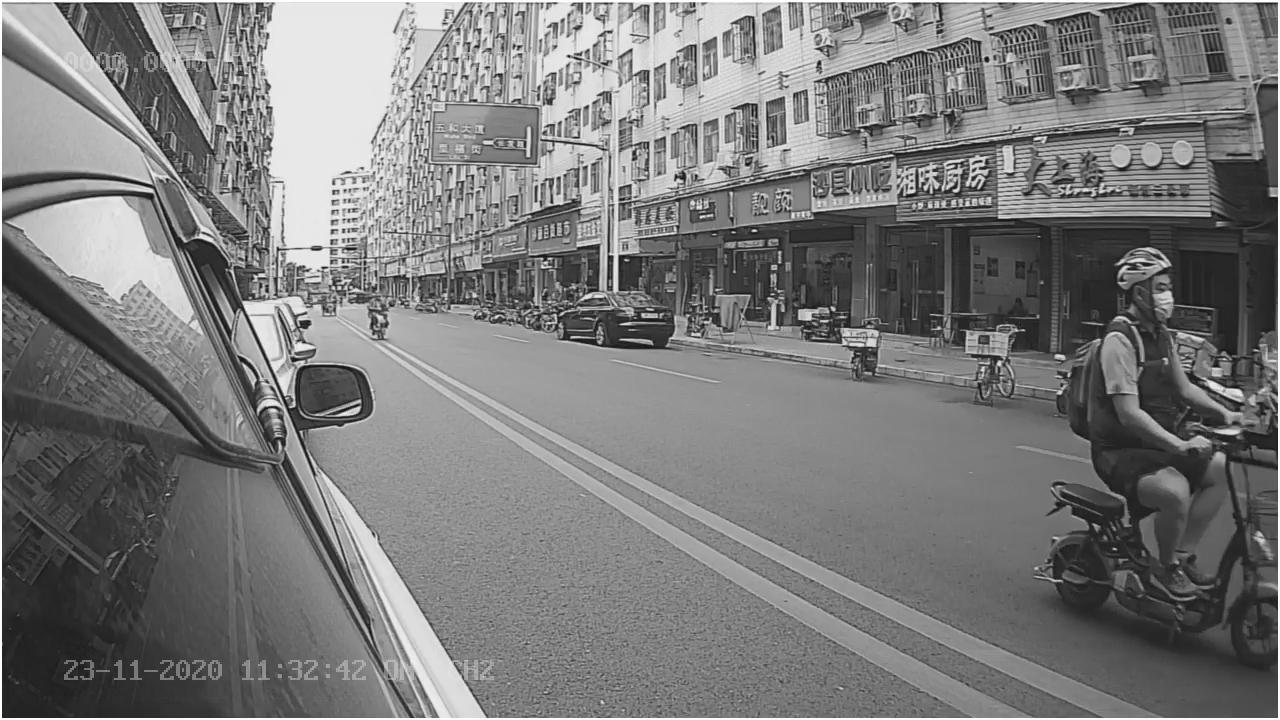person: (1088, 237, 1244, 454)
